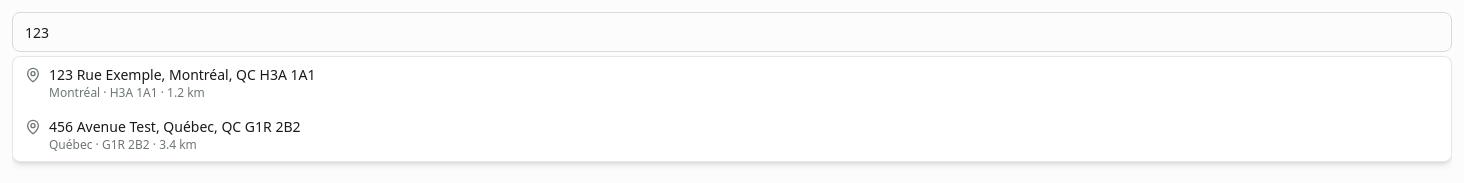
Test case: AddressAutocomplete › suggestion selection bug fix › closes dropdown after clicking a suggestion
Check: the list is shown, box [12,56,1452,162]
Check: the list item "123 Rue Exemple, Montréal, QC H3A 1A1" is shown, box [49,65,316,84]
Click the list item "123 Rue Exemple, Montréal, QC H3A 1A1" at (170, 83), box [25,65,316,101]
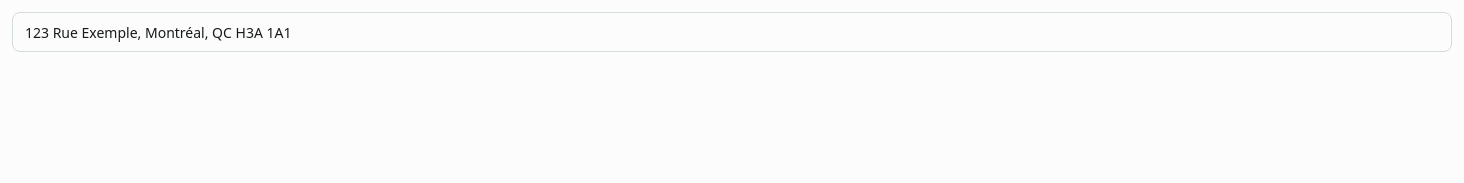
Check: the list is gone
